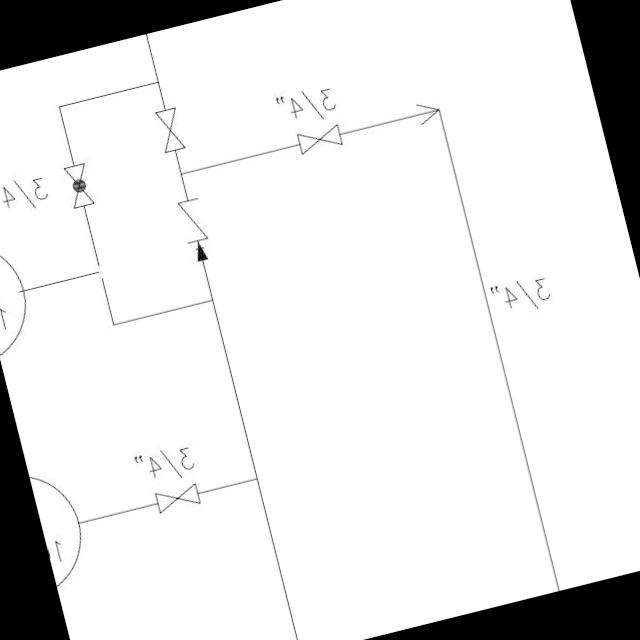BV2: (58, 156, 99, 214)
GV: (292, 118, 348, 159), (150, 478, 206, 518), (152, 101, 189, 156)
